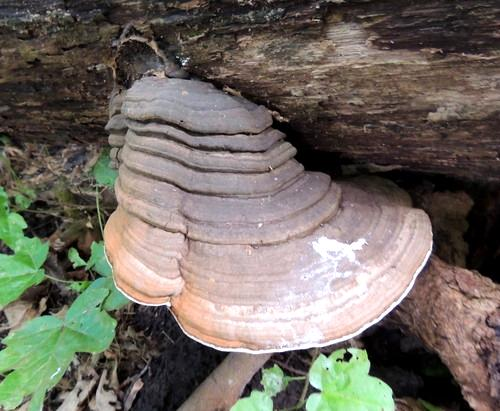Ganoderma - Fruit Body: (103, 74, 433, 357)
